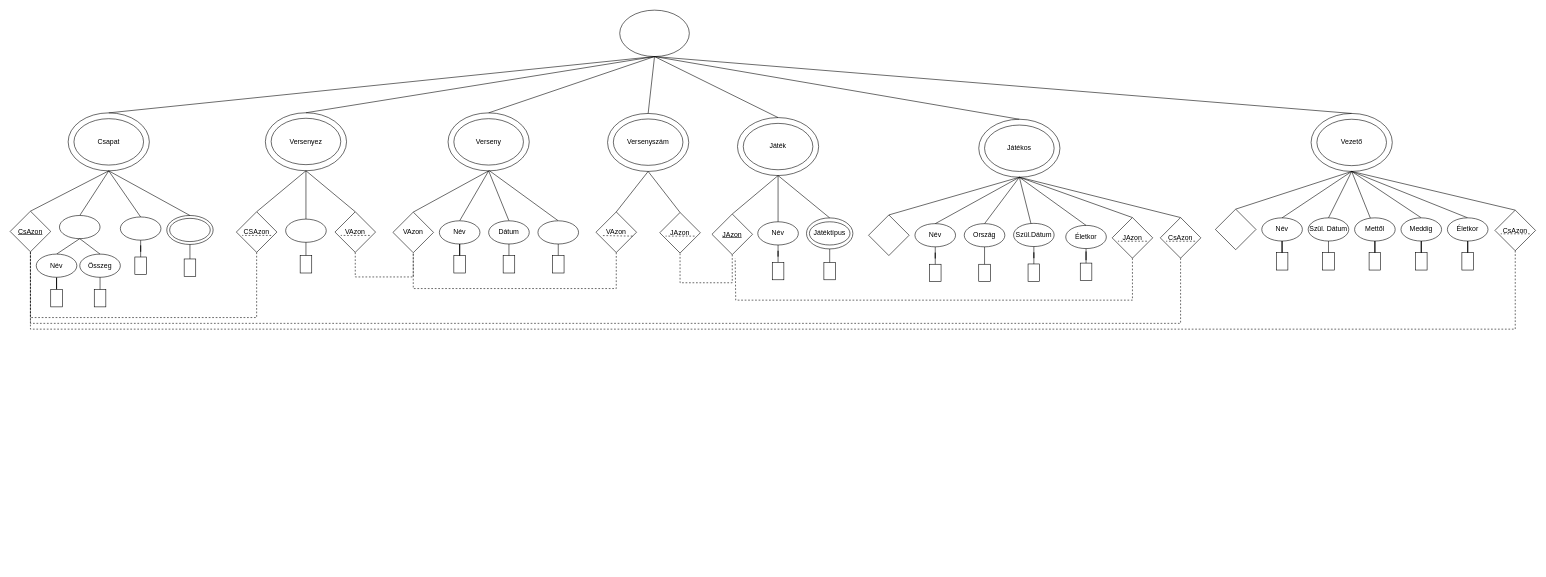
The diagram is 1546 pixels wide and 577 high, and some of its shapes have lost their labels. The shapes that lost their labels are listed below. From the top down, each one's centre as x and y in pixels, then its label:
At (654,33): "WJB0DC_ESportok".
At (79,227): "Szponzor".
At (140,228): "Alapítás dátuma".
At (189,230): "Alapító tagok".
At (305,230): "Helyezés".
At (558,232): "Helyszín".
At (888,235): "PAzon".
At (1235,229): "LAzon".
